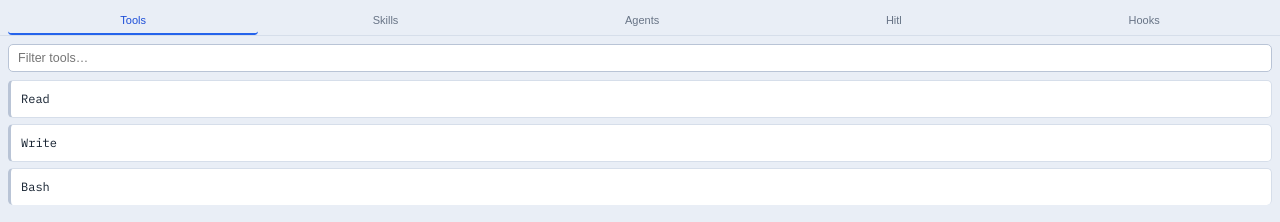
Test: Palette › the_filter_input_narrows_the_list_case_insensitively
The image size is (1280, 222).
Check: the list item with test id "palette-item-Read" is shown, box [8,80,1272,118]
Type "rEaD" into the field with test id "palette-filter". click: (640, 58)
box: [8,44,1272,72]
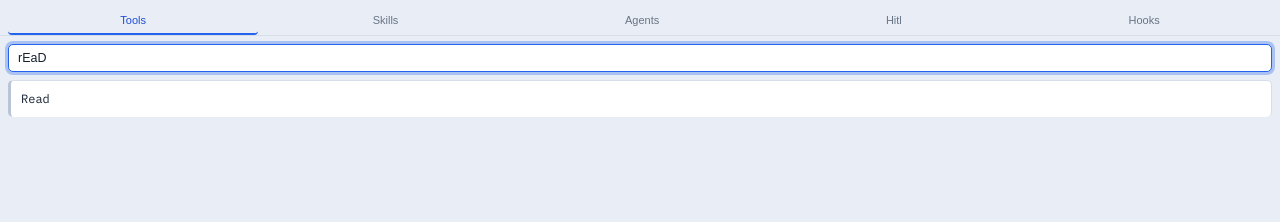
Check: the list item with test id "palette-item-Read" is shown, box [8,80,1272,117]
Check: the list item with test id "palette-item-Write" is gone
